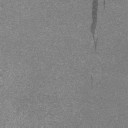red iron: (90, 0, 98, 38)
